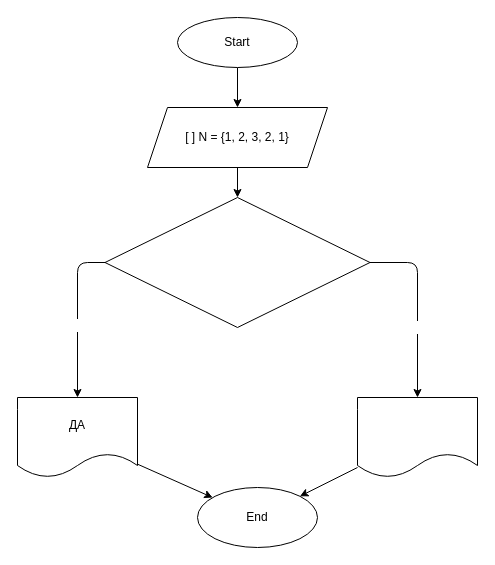
Image size: 495x565. Some labels were removed from this diagram. The shapes that lost their labels are listed below. From the top down, each one's centre as x and y in pixels, then its label:
At [237,262]: "N [ 0 ] == N [ 4 ] && N [ 1 ] == N [ 3 ]?".
At [417,437]: "НЕТ".
